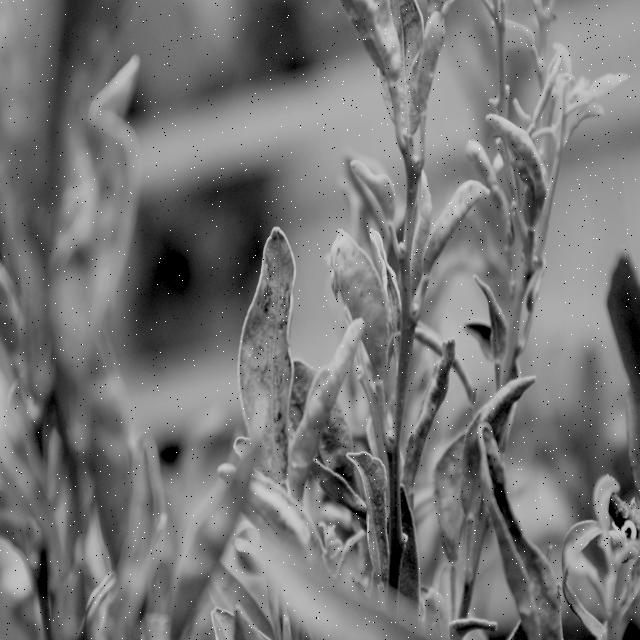canker: (250, 232, 295, 458), (328, 245, 401, 344)
